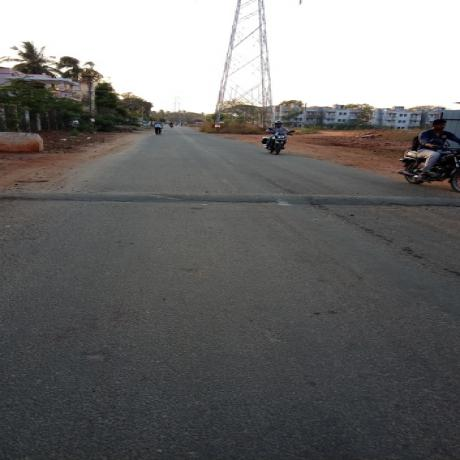Speed Bump: (3, 190, 459, 208)
